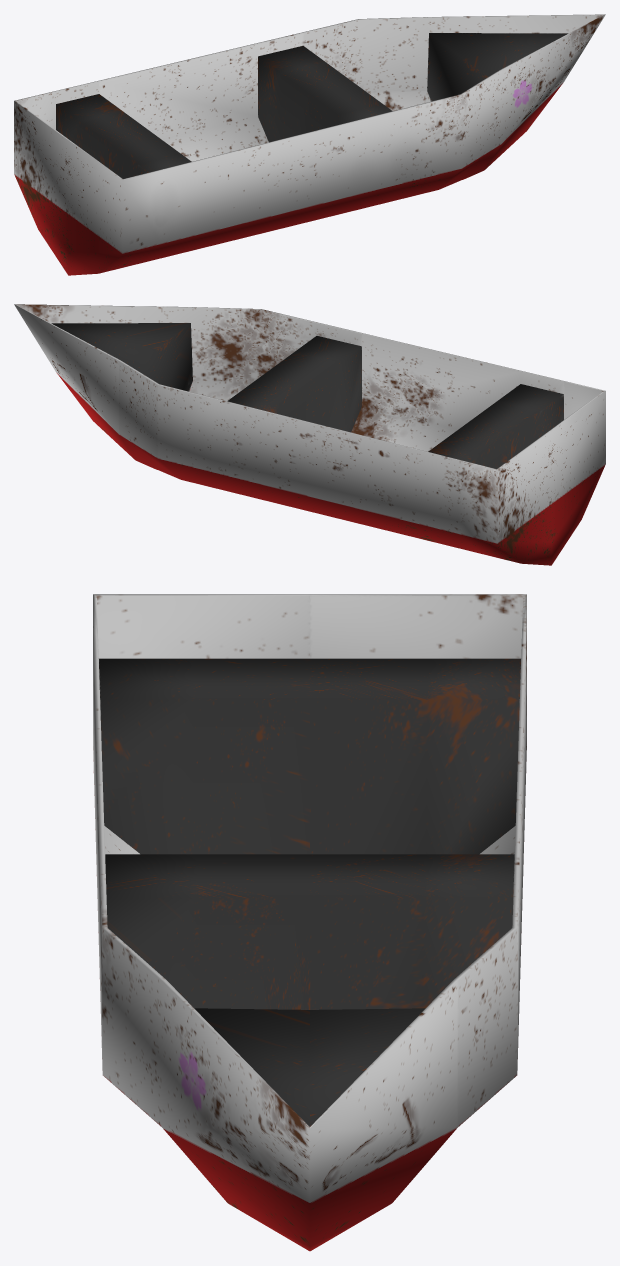
Rendered from barco_texturizado.fbx.
3 renders of one model, top to bottom at view 1: azimuth 30°, elevation 25°; view 2: azimuth 150°, elevation 25°; view 3: azimuth 270°, elevation 25°, orthographic. The views are drawn at different scales.
Visible parts, largest first — view 1: barco_smooth; view 2: barco_smooth; view 3: barco_smooth.
Boxes of the visible parts, <box> form: barco_smooth: <box>14,14,605,275</box>; barco_smooth: <box>14,304,605,565</box>; barco_smooth: <box>93,594,526,1251</box>.
Bounding box in the file's own units: 455 × 110 × 159.
1 material, 1 textured.
